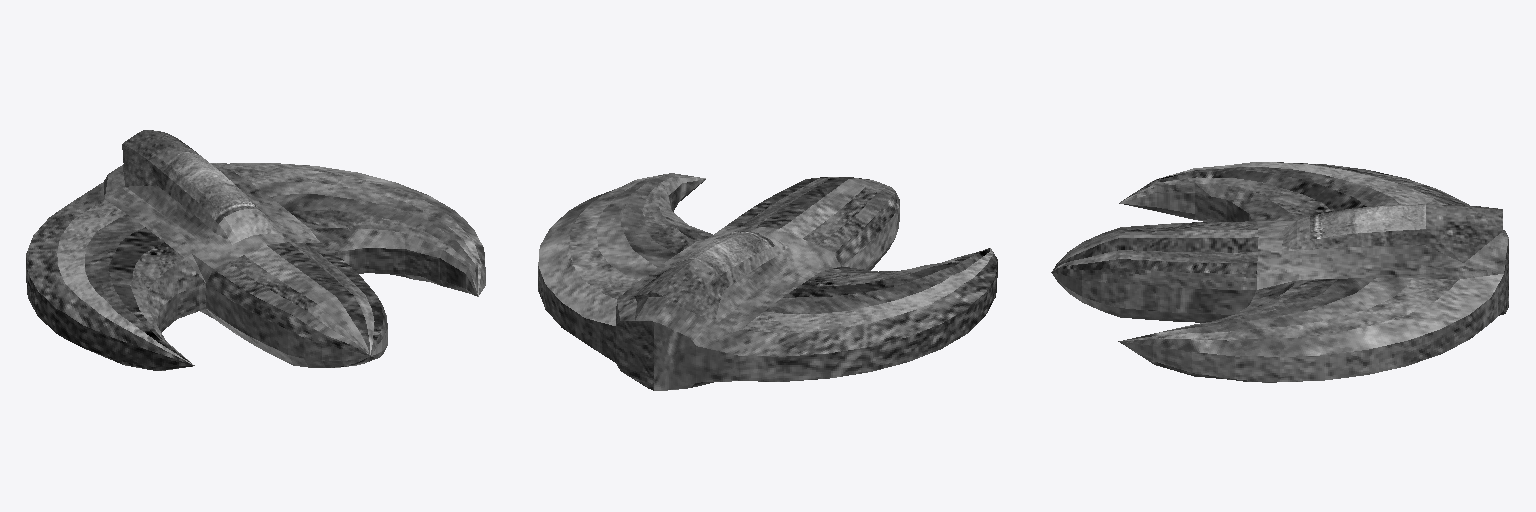
3 renders of one model, left to right at view 1: azimuth 30°, elevation 25°; view 2: azimuth 150°, elevation 25°; view 3: azimuth 270°, elevation 25°, orthographic.
Parts seen in each view (by area): view 1: Circle; view 2: Circle; view 3: Circle.
Part boxes in pixels (x1,y1,x2,y2): Circle: (26, 130, 485, 370); Circle: (538, 173, 997, 390); Circle: (1051, 162, 1508, 382).
Size of the model in its own units: 8.02 by 1.96 by 7.96.
Materials: 3 (1 with a texture image).